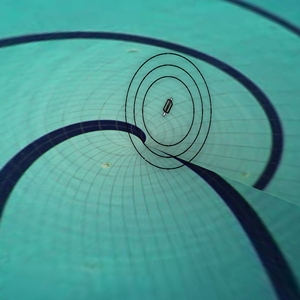circle: (116, 44, 236, 183)
submarine: (159, 94, 176, 120)
